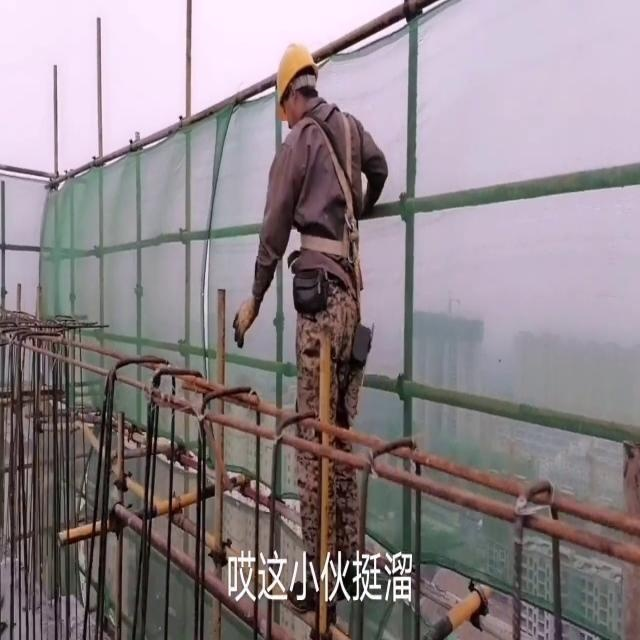Arnes_seguridad: (289, 104, 368, 267)
